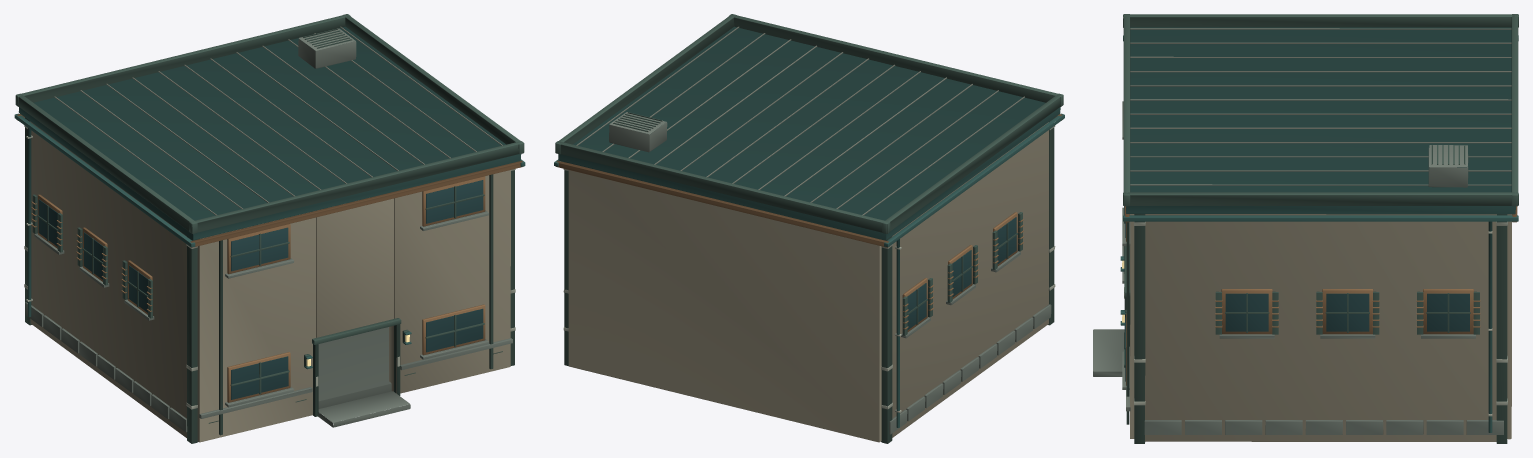
File: kf-archive-balanced.glb
The picture shows the model from 3 angles, left to right: view 1: azimuth 30°, elevation 25°; view 2: azimuth 150°, elevation 25°; view 3: azimuth 270°, elevation 25°; orthographic projection. The views are drawn at different scales.
Parts seen in each view (by area): view 1: Shell Painted plaster, Roof Roof metal, RoofDetail Timber trim, Shell Foundation, Shell Timber trim, Shell Window glass, Shell Warm wood, RoofDetail Brushed hardware, Shell Roof metal, RoofDetail Foundation; view 2: Shell Painted plaster, Roof Roof metal, RoofDetail Timber trim, Shell Timber trim, RoofDetail Brushed hardware, Shell Warm wood, Shell Foundation, Shell Roof metal, Shell Window glass, RoofDetail Foundation; view 3: Shell Painted plaster, Roof Roof metal, RoofDetail Timber trim, RoofDetail Brushed hardware, Shell Timber trim, Shell Foundation, Shell Window glass, Shell Roof metal, Shell Warm wood, RoofDetail Foundation.
Boxes of the visible parts, x1=… form: Shell Painted plaster: x1=30, y1=122, x2=510, y2=442; Roof Roof metal: x1=18, y1=26, x2=521, y2=240; RoofDetail Timber trim: x1=15, y1=14, x2=524, y2=233; Shell Foundation: x1=25, y1=210, x2=512, y2=432; Shell Timber trim: x1=25, y1=117, x2=514, y2=443; Shell Window glass: x1=38, y1=180, x2=483, y2=399; Shell Warm wood: x1=16, y1=114, x2=523, y2=402; RoofDetail Brushed hardware: x1=54, y1=26, x2=502, y2=215; Shell Roof metal: x1=14, y1=113, x2=525, y2=369; RoofDetail Foundation: x1=298, y1=28, x2=356, y2=68; Shell Painted plaster: x1=568, y1=122, x2=1048, y2=442; Roof Roof metal: x1=558, y1=26, x2=1060, y2=240; RoofDetail Timber trim: x1=555, y1=14, x2=1063, y2=233; Shell Timber trim: x1=564, y1=118, x2=1054, y2=443; RoofDetail Brushed hardware: x1=576, y1=26, x2=1024, y2=215; Shell Warm wood: x1=556, y1=114, x2=1062, y2=331; Shell Foundation: x1=881, y1=251, x2=1051, y2=441; Shell Roof metal: x1=554, y1=113, x2=1064, y2=427; Shell Window glass: x1=907, y1=217, x2=1016, y2=329; RoofDetail Foundation: x1=609, y1=112, x2=667, y2=152; Shell Painted plaster: x1=1130, y1=214, x2=1511, y2=441; Roof Roof metal: x1=1126, y1=27, x2=1515, y2=214; RoofDetail Timber trim: x1=1123, y1=14, x2=1518, y2=206; RoofDetail Brushed hardware: x1=1130, y1=28, x2=1511, y2=185; Shell Timber trim: x1=1124, y1=206, x2=1507, y2=443; Shell Foundation: x1=1093, y1=101, x2=1503, y2=434; Shell Window glass: x1=1125, y1=222, x2=1469, y2=381; Shell Roof metal: x1=1120, y1=35, x2=1518, y2=432; Shell Warm wood: x1=1124, y1=206, x2=1517, y2=385; RoofDetail Foundation: x1=1428, y1=145, x2=1468, y2=187.
Size of the model in its own units: 12.88 by 8.71 by 12.69.
